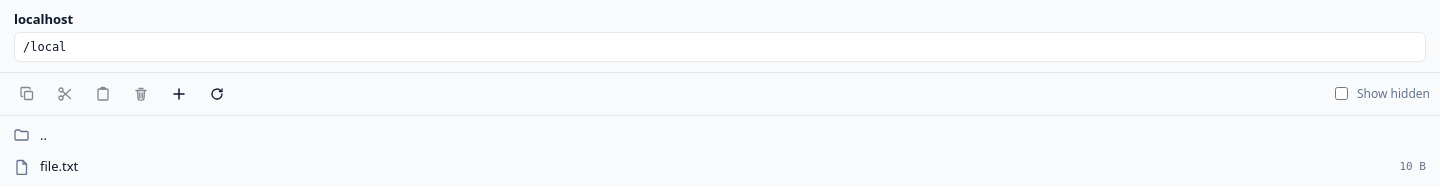
Test: SftpPane smoke › Escape reverts an edited path back to the current directory
Replace the text in the dropdown named "current path" with "/typed/garbage". click: (720, 46)
box: [14,32,1426,62]
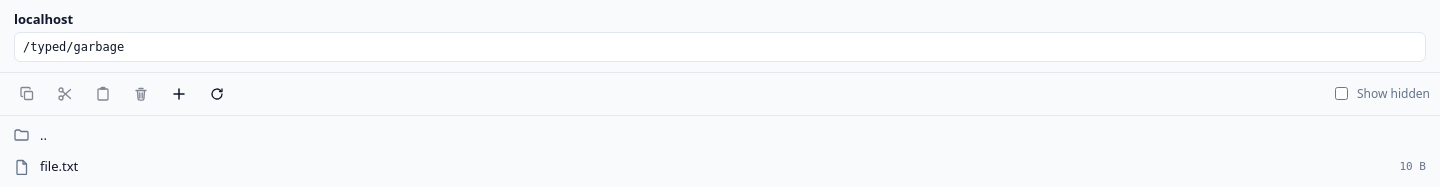
Press Escape in the dropdown named "current path", box [14,32,1426,62]
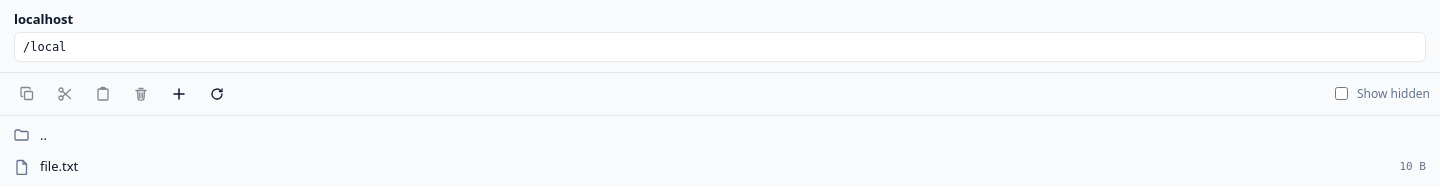
Expected: the dropdown named "current path" holds "/local", [14,32,1426,62]
